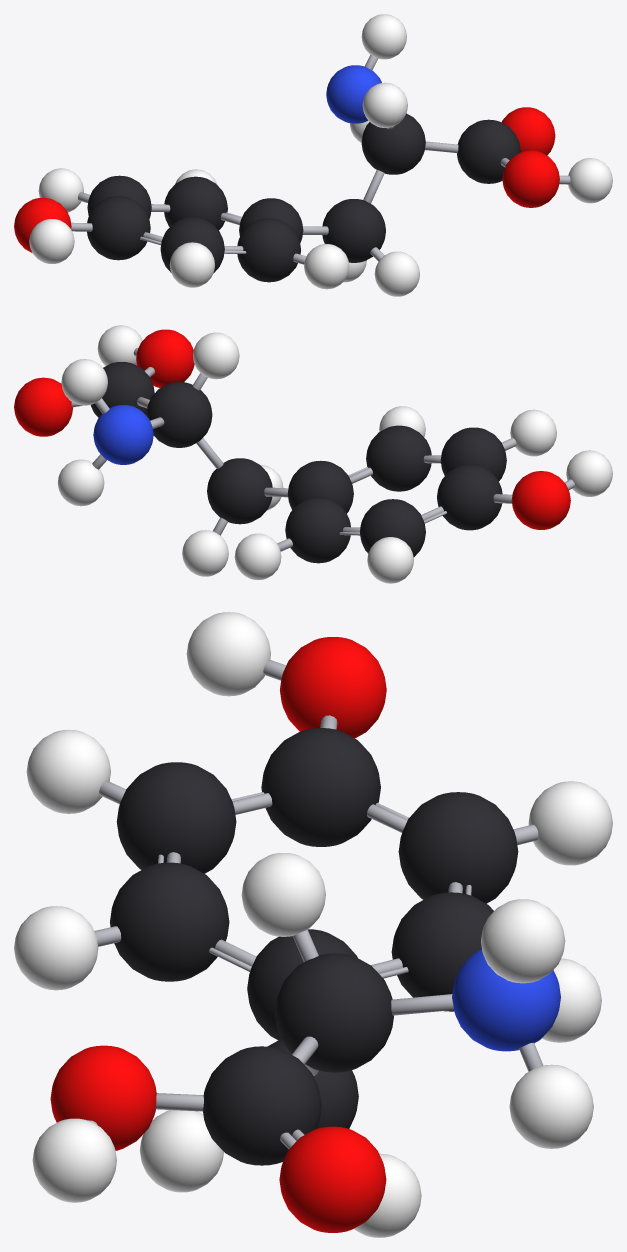
File: tyrosine.glb
The picture shows the model from 3 angles, top to bottom: view 1: azimuth 30°, elevation 25°; view 2: azimuth 150°, elevation 25°; view 3: azimuth 270°, elevation 25°; orthographic projection. The views are drawn at different scales.
Visible parts, largest first — view 1: C6, C9, C10, C2, C1, O12, C4, N0, C8, O11, H21, H22 (+9 smaller); view 2: C9, C2, C4, C6, C1, N0, O7, O11, C5, O12, C8, C3 (+11 smaller); view 3: C6, C9, C1, C10, C8, C5, O11, O7, O12, C4, N0, H23 (+13 smaller).
Boxes of the visible parts, x1=… form: C6: x1=87, y1=196, x2=150, y2=260; C9: x1=237, y1=218, x2=300, y2=282; C10: x1=457, y1=119, x2=520, y2=183; C2: x1=322, y1=199, x2=385, y2=262; C1: x1=361, y1=113, x2=425, y2=174; O12: x1=502, y1=150, x2=559, y2=207; C4: x1=164, y1=176, x2=227, y2=230; N0: x1=326, y1=65, x2=381, y2=123; C8: x1=160, y1=217, x2=224, y2=273; O11: x1=501, y1=107, x2=555, y2=155; H21: x1=169, y1=242, x2=214, y2=287; H22: x1=304, y1=244, x2=349, y2=289; C9: x1=366, y1=425, x2=431, y2=491; C2: x1=207, y1=458, x2=272, y2=524; C4: x1=285, y1=497, x2=350, y2=563; C6: x1=437, y1=464, x2=502, y2=530; C1: x1=146, y1=382, x2=212, y2=447; N0: x1=93, y1=405, x2=153, y2=464; O7: x1=511, y1=471, x2=570, y2=529; O11: x1=14, y1=377, x2=72, y2=436; C5: x1=360, y1=499, x2=425, y2=557; O12: x1=136, y1=329, x2=194, y2=387; C8: x1=440, y1=427, x2=506, y2=481; C3: x1=287, y1=460, x2=353, y2=513; C6: x1=261, y1=728, x2=380, y2=846; C9: x1=110, y1=862, x2=229, y2=981; C1: x1=275, y1=953, x2=393, y2=1072; C10: x1=203, y1=1046, x2=321, y2=1165; C8: x1=116, y1=762, x2=236, y2=873; C5: x1=398, y1=792, x2=518, y2=903; O11: x1=279, y1=1126, x2=386, y2=1232; O7: x1=280, y1=637, x2=386, y2=738; O12: x1=50, y1=1045, x2=156, y2=1150; C4: x1=391, y1=892, x2=493, y2=1011; N0: x1=452, y1=949, x2=560, y2=1051; H23: x1=32, y1=1118, x2=116, y2=1202.
Bounding box in the file's own units: 10.01 × 3.79 × 5.11.
